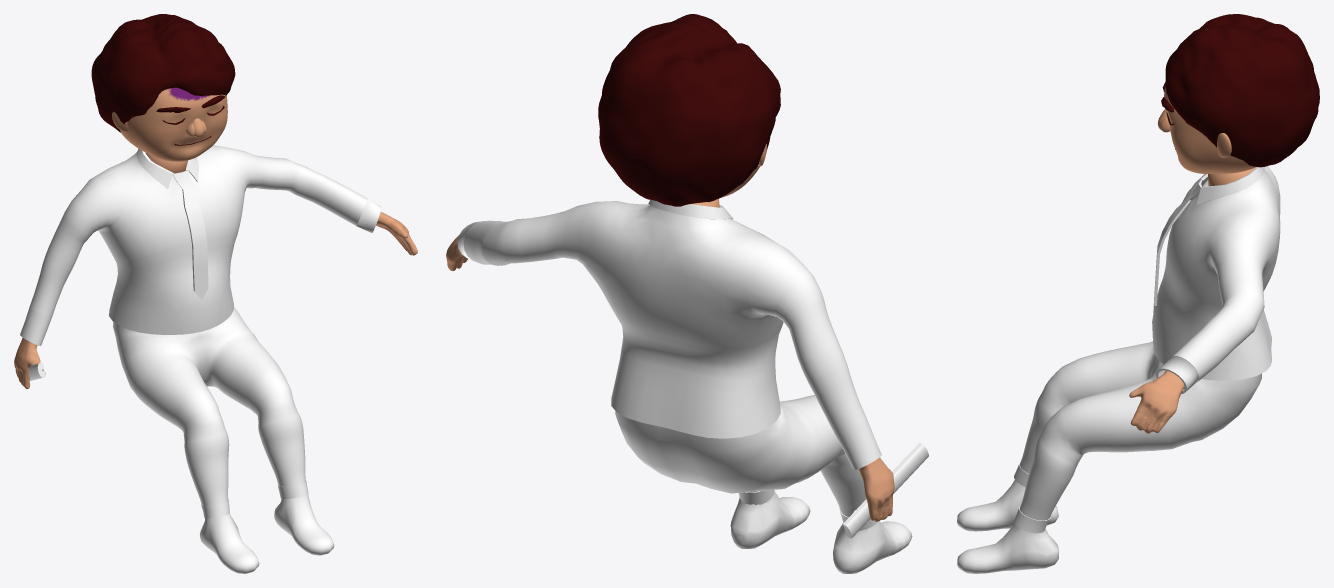
The model's file is Uncle222.fbx.
3 views of the same model, side by side, from view 1: azimuth 30°, elevation 25°; view 2: azimuth 150°, elevation 25°; view 3: azimuth 270°, elevation 25° (orthographic). The views are drawn at different scales.
Parts seen in each view (by area): view 1: D_2; view 2: D_2; view 3: D_2.
Part boxes in pixels (x1,y1,x2,y2): D_2: [14, 14, 417, 573]; D_2: [446, 14, 928, 573]; D_2: [957, 14, 1319, 573].
Bounding box in the file's own units: 92.18 × 111 × 69.5.
